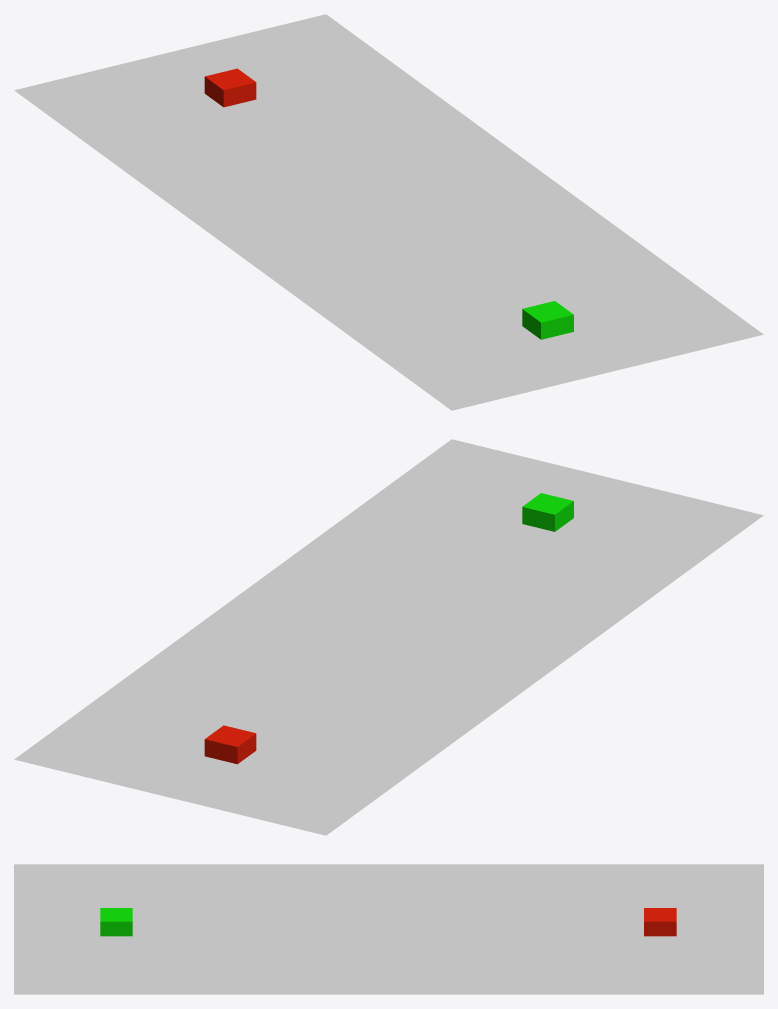
The model's file is TESTETETETST.fbx.
3 renders of one model, top to bottom at view 1: azimuth 30°, elevation 25°; view 2: azimuth 150°, elevation 25°; view 3: azimuth 270°, elevation 25°, orthographic. The views are drawn at different scales.
Visible parts, largest first — view 1: Plane, Cube.257, Cube.262; view 2: Plane, Cube.257, Cube.262; view 3: Plane, Cube.257, Cube.262.
Boxes of the visible parts, x1,y1,x2,y2 form: Plane: (14, 14, 763, 410); Cube.257: (204, 68, 256, 107); Cube.262: (522, 301, 573, 339); Plane: (14, 439, 763, 835); Cube.257: (204, 725, 256, 764); Cube.262: (522, 493, 573, 531); Plane: (14, 864, 763, 994); Cube.257: (644, 908, 676, 936); Cube.262: (100, 908, 132, 936).
Bounding box in the file's own units: 5338 × 561 × 12966.
